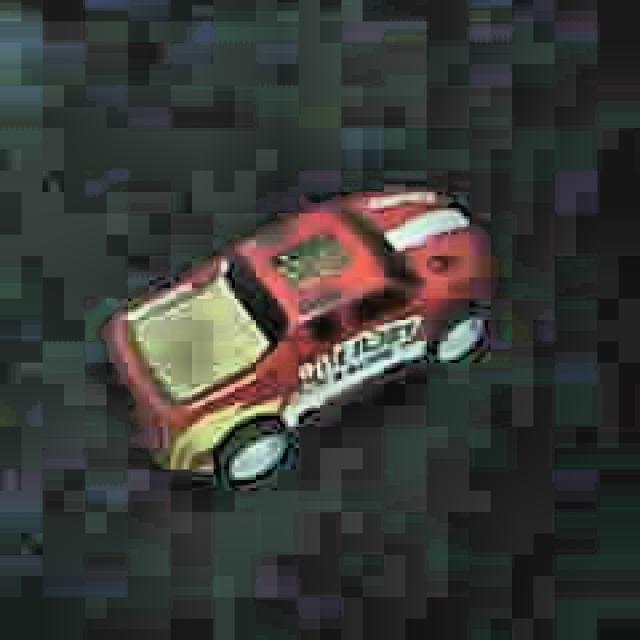car: (103, 180, 501, 492)
